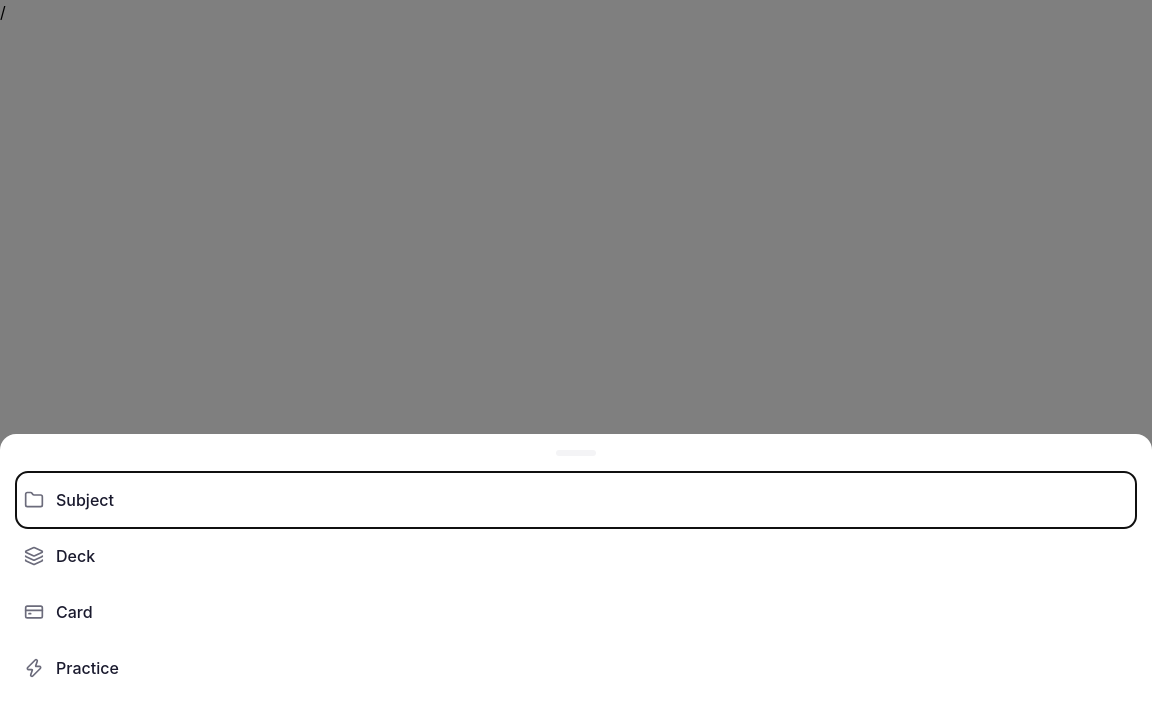
Test: CreateSheet › closes and navigates to /subjects/new when Subject is tapped
What coordinates should you click on to do the following:
click the button "Subject"
I would click on:
 (85, 500)
Its box is [16,472,1136,528].
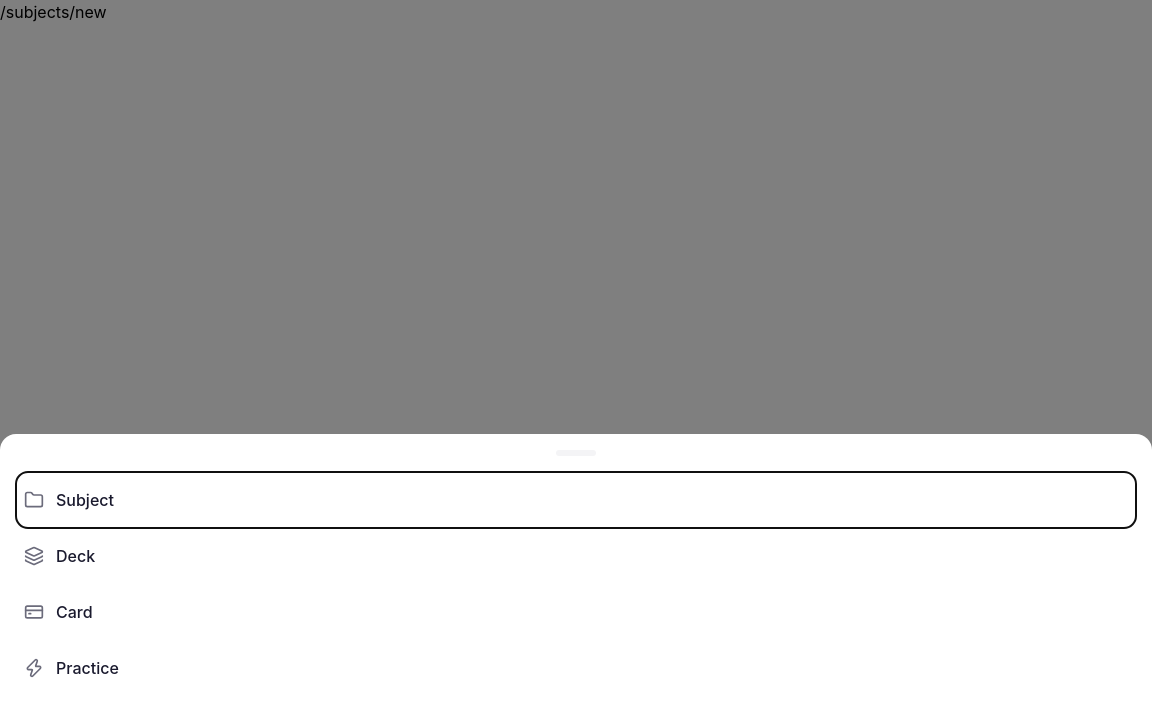
expect the text with test id "location" reads "/subjects/new": met, box [0,2,107,22]
